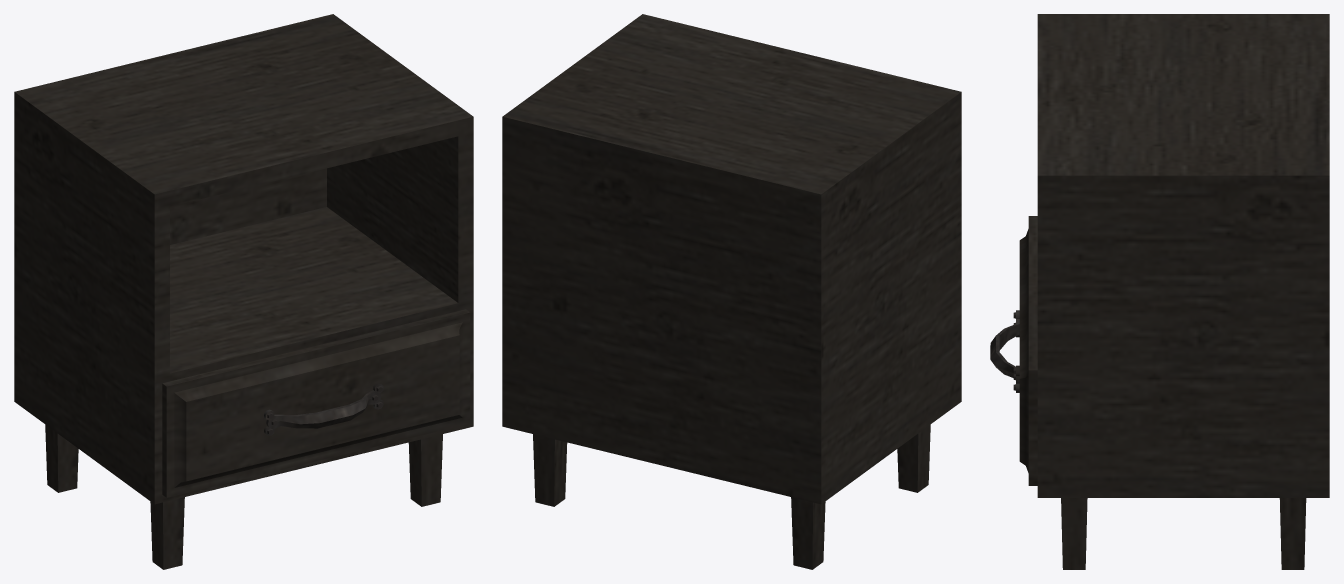
Rendered from bedside_table_2.obj.
3 renders of one model, left to right at view 1: azimuth 30°, elevation 25°; view 2: azimuth 150°, elevation 25°; view 3: azimuth 270°, elevation 25°, orthographic. The views are drawn at different scales.
Parts seen in each view (by area): view 1: bedside_table_2, bedside_table_2_drawer; view 2: bedside_table_2; view 3: bedside_table_2, bedside_table_2_drawer.
Part boxes in pixels (x1=…): bedside_table_2: x1=14, y1=14, x2=473, y2=569; bedside_table_2_drawer: x1=162, y1=309, x2=470, y2=497; bedside_table_2: x1=502, y1=14, x2=961, y2=569; bedside_table_2: x1=1037, y1=14, x2=1329, y2=569; bedside_table_2_drawer: x1=990, y1=216, x2=1037, y2=485.
Bounding box in the file's own units: 0.504 × 0.588 × 0.4463.
